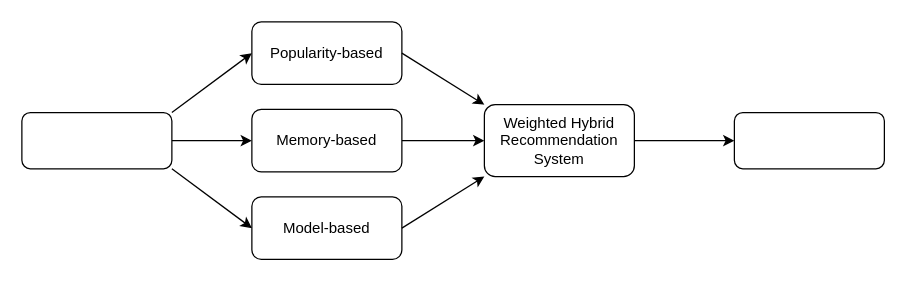
This 906x281 diagram has some shape labels left out. The shapes that lost their labels are listed below. From the top down, each one's centre as x and y in pixels, then its label:
At pixel 96 140: "User-Item Matrix".
At pixel 808 140: "Recommendation".
